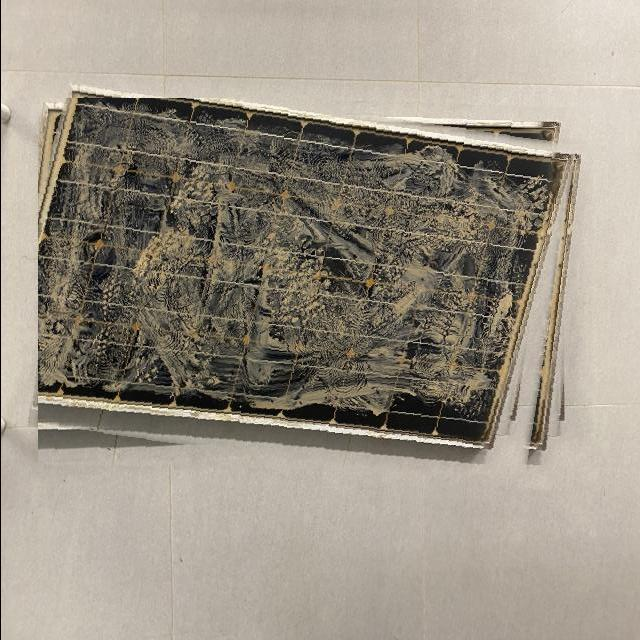Dusty: (37, 97, 552, 420)
